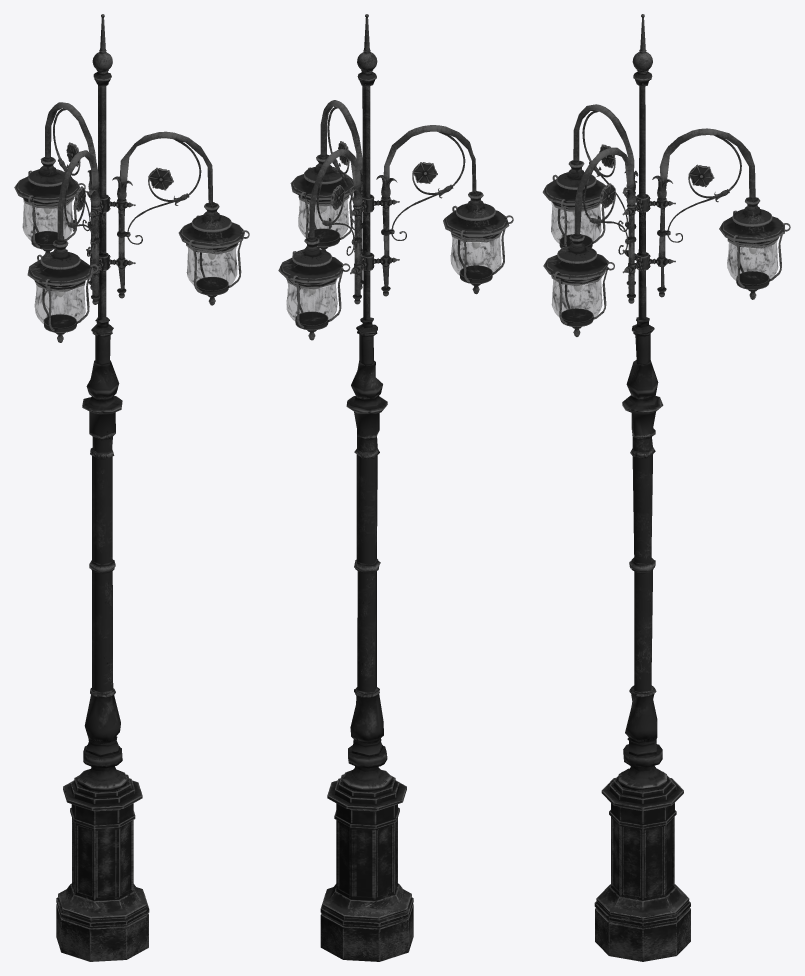
The model's file is victorian_street_lamp.glb.
3 renders of one model, left to right at view 1: azimuth 30°, elevation 25°; view 2: azimuth 150°, elevation 25°; view 3: azimuth 270°, elevation 25°, orthographic.
Visible parts, largest first — view 1: pCylinder48, pCylinder1, pCylinder4 (×3), pCylinder9 (×3), pCylinder5 (×2), pCylinder7 (×3), pCylinder89, pCylinder8 (×2); view 2: pCylinder48, pCylinder1, pCylinder4 (×3), pCylinder5 (×2), pCylinder9 (×3), pCylinder7 (×3), pCylinder89, pCylinder8 (×2); view 3: pCylinder1, pCylinder48, pCylinder4 (×3), pCylinder9 (×3), pCylinder5 (×2), pCylinder7 (×3), pCylinder89, pCylinder8 (×2).
Boxes of the visible parts, box(x1,y1,x2,y2) form: pCylinder48: box(77, 86, 127, 791); pCylinder1: box(56, 774, 149, 961); pCylinder4 (×3): box(45, 102, 212, 297); pCylinder9 (×3): box(14, 176, 244, 291); pCylinder5 (×2): box(22, 200, 85, 327); pCylinder7 (×3): box(28, 157, 231, 275); pCylinder89: box(186, 247, 237, 290); pCylinder8 (×2): box(43, 277, 228, 342); pCylinder48: box(342, 86, 392, 791); pCylinder1: box(320, 774, 413, 961); pCylinder4 (×3): box(309, 100, 476, 296); pCylinder5 (×2): box(286, 235, 501, 324); pCylinder9 (×3): box(278, 174, 509, 289); pCylinder7 (×3): box(292, 154, 495, 272); pCylinder89: box(298, 196, 348, 242); pCylinder8 (×2): box(295, 265, 492, 340); pCylinder1: box(594, 771, 690, 961); pCylinder48: box(617, 86, 668, 790); pCylinder4 (×3): box(573, 104, 755, 296); pCylinder9 (×3): box(542, 179, 784, 286); pCylinder5 (×2): box(551, 202, 777, 284); pCylinder7 (×3): box(556, 160, 772, 269); pCylinder89: box(552, 278, 602, 321); pCylinder8 (×2): box(560, 271, 769, 336).
Size of what is drawn, in the model's own units: 291 by 1241 by 301.
Materials: 2 (2 with a texture image).
